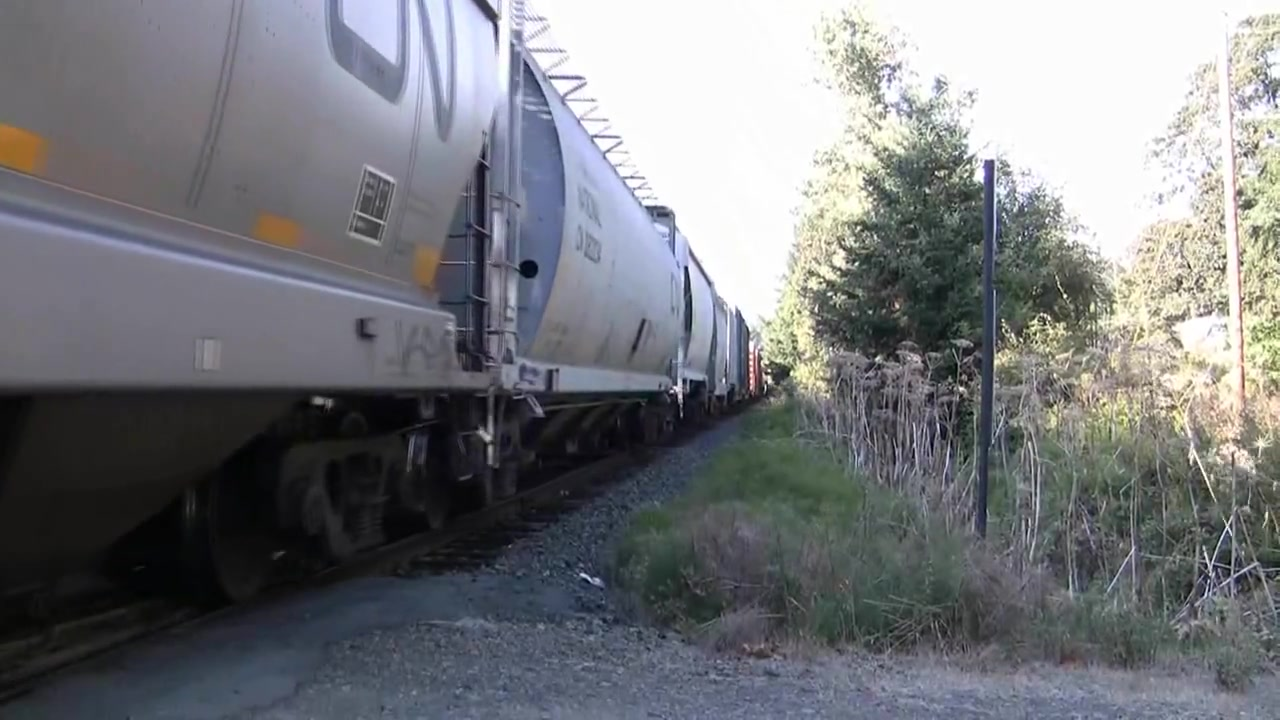train: (1, 1, 774, 614)
